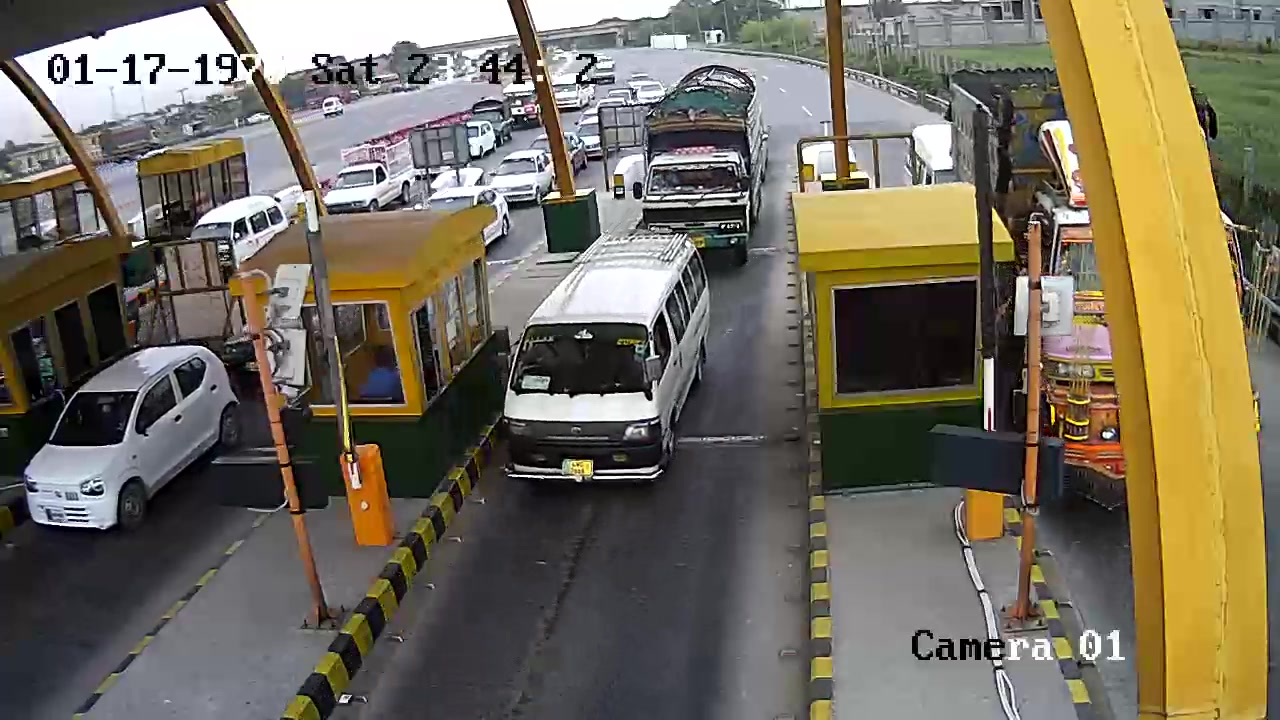F2: (501, 226, 714, 501)
